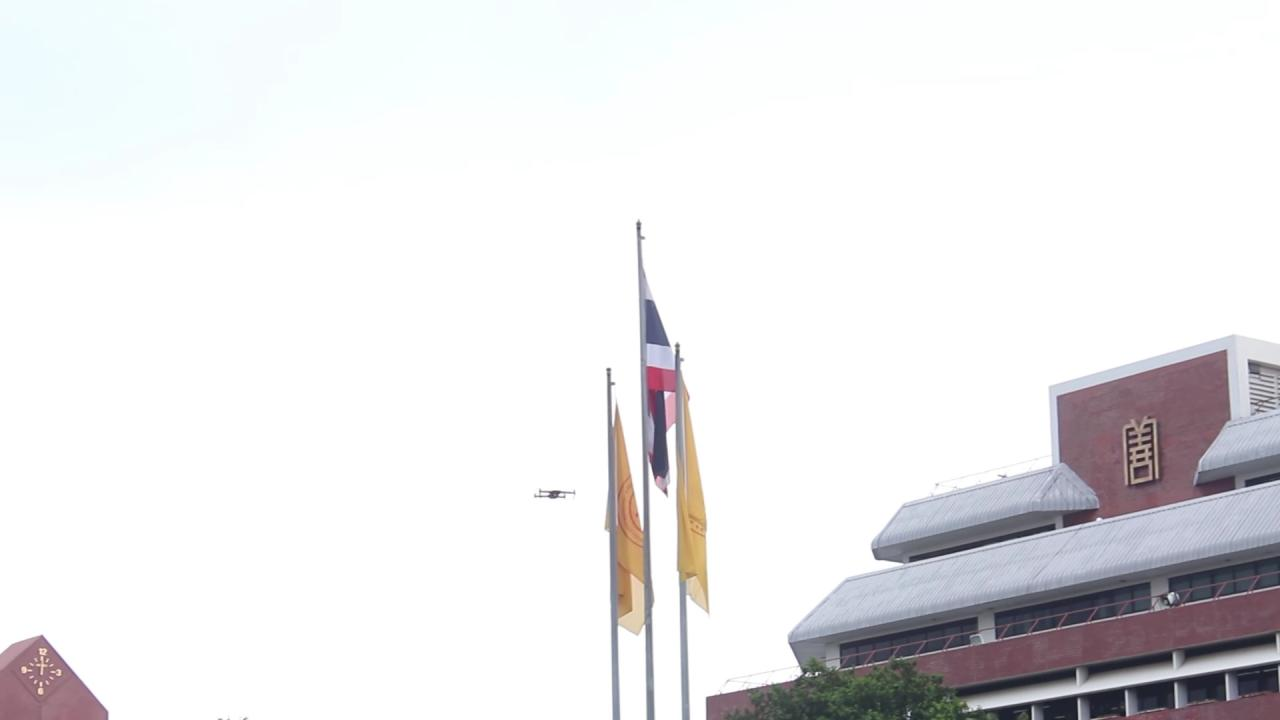Drone: (523, 478, 584, 512)
